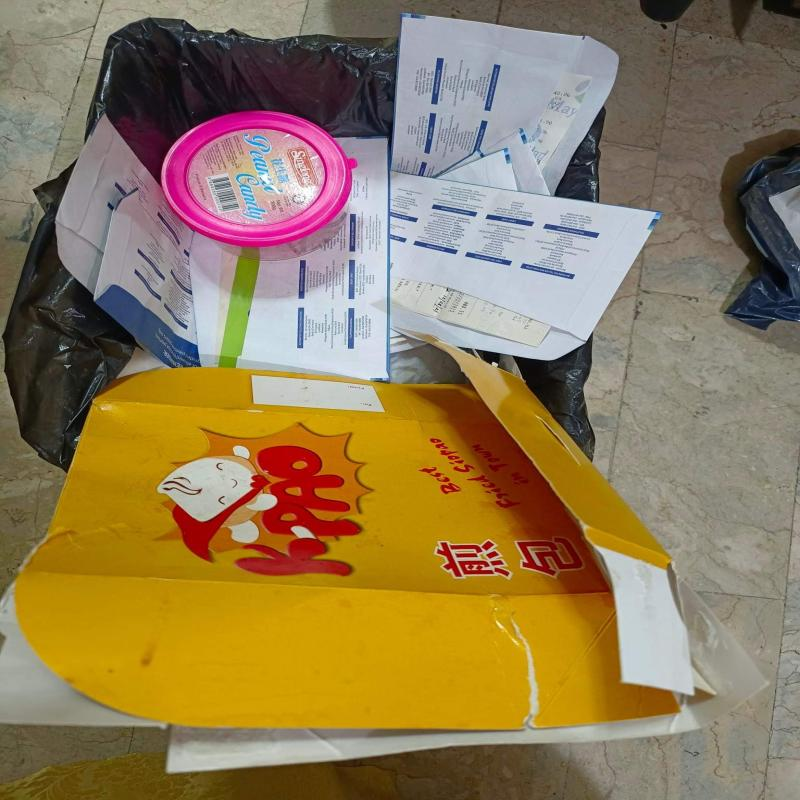cardboard: (0, 327, 770, 777)
paper: (388, 172, 662, 361), (189, 136, 389, 380), (389, 13, 619, 197), (55, 114, 202, 369)
plastic container: (160, 111, 358, 262)
